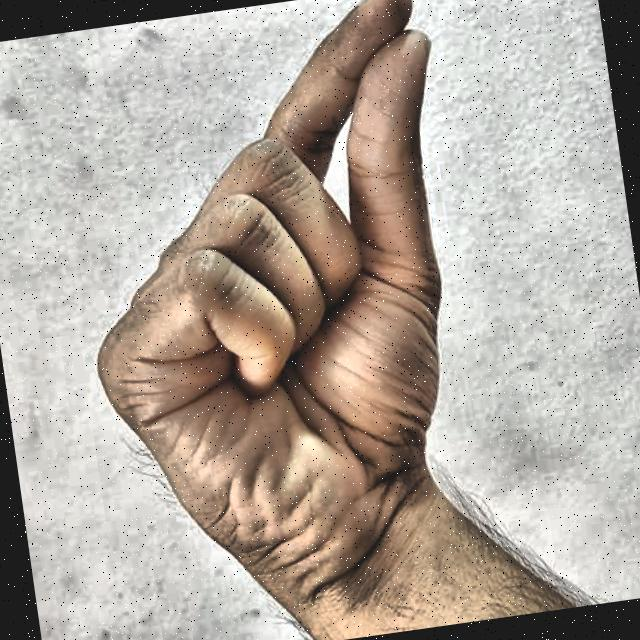Anusshar: (22, 0, 547, 640)
